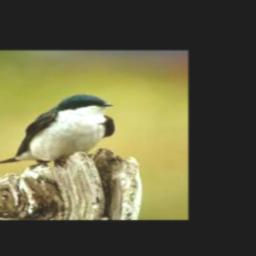Swallow: (0, 94, 114, 166)
